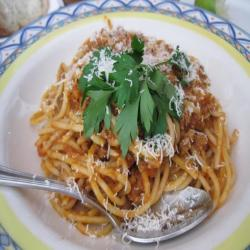bolonese_pasta: (44, 46, 228, 225)
salad: (88, 57, 168, 127)
